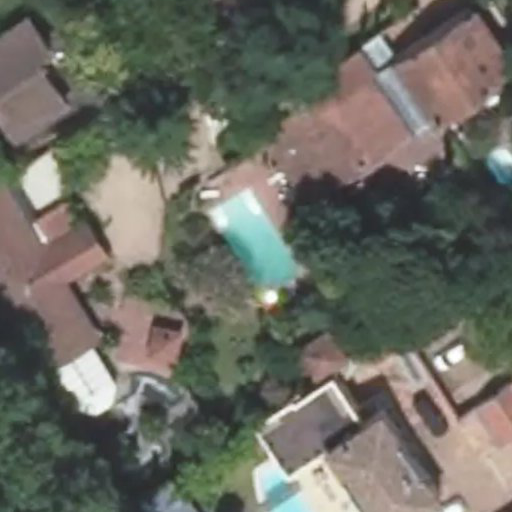pool: (209, 211, 302, 272)
